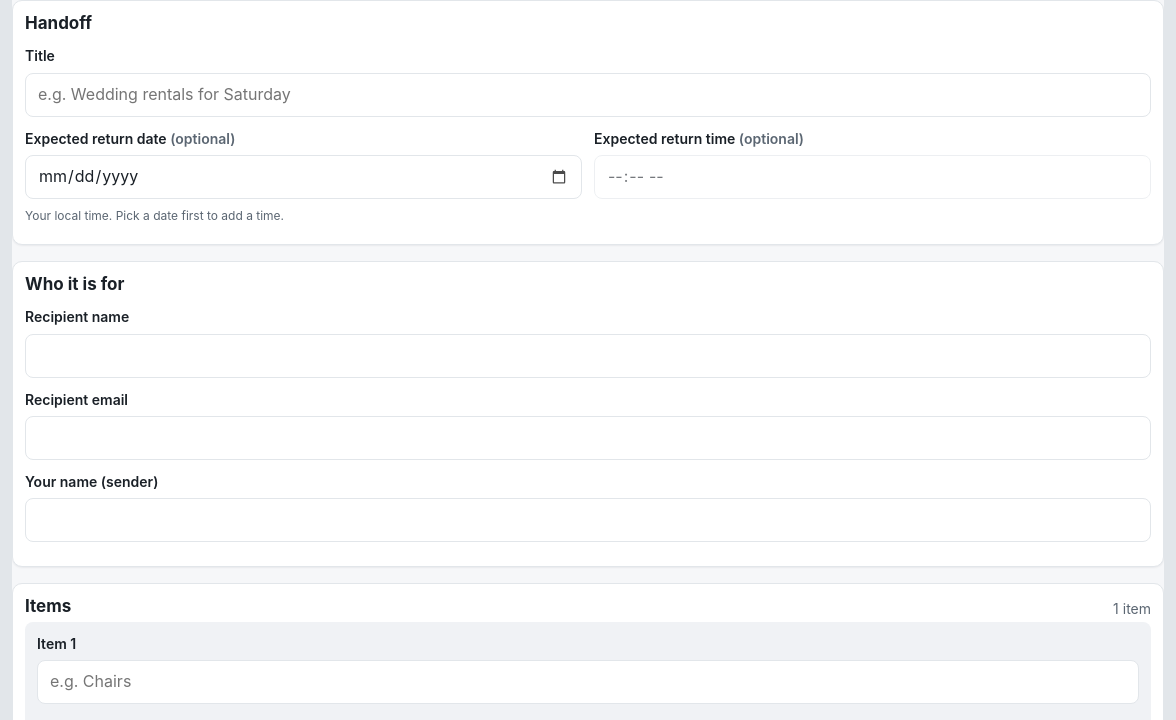
it: HandoffForm expected return › refuses an item without a quantity above zero, without sending anything
Type "Spare laptops" into the field labelled "Title".
click(588, 94); type("Spare laptops")  # box x1=25 y1=72 x2=1151 y2=116
Type "Dev Patel" into the field labelled "Recipient name".
click(588, 356); type("Dev Patel")  # box x1=25 y1=334 x2=1151 y2=378
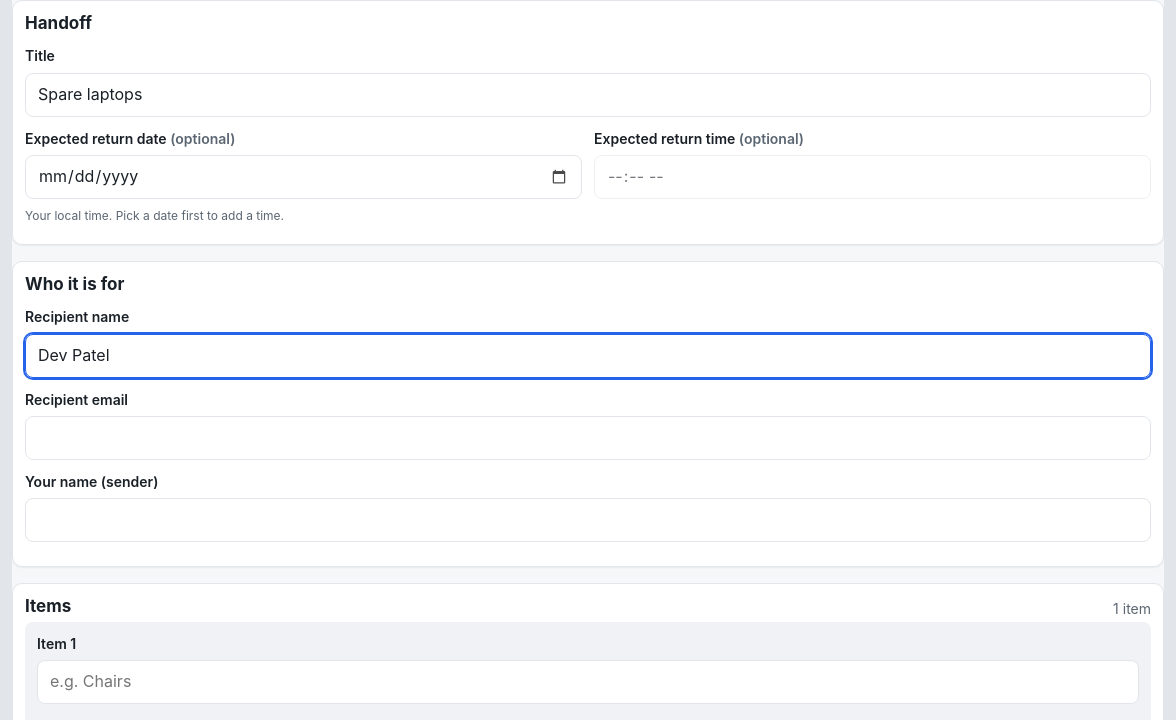
Type "dev@example.test" into the field labelled "Recipient email".
click(588, 438); type("dev@example.test")  # box x1=25 y1=416 x2=1151 y2=460
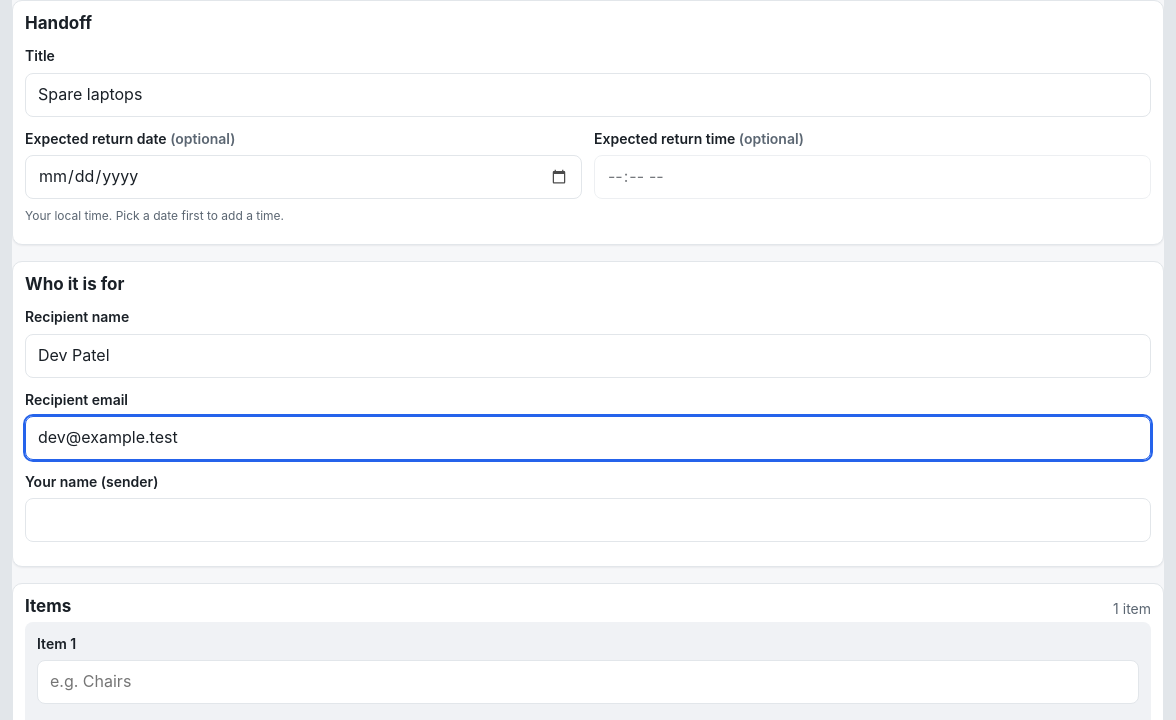
Type "Sender" into the field labelled "Your name (sender)".
click(588, 520); type("Sender")  # box x1=25 y1=498 x2=1151 y2=542
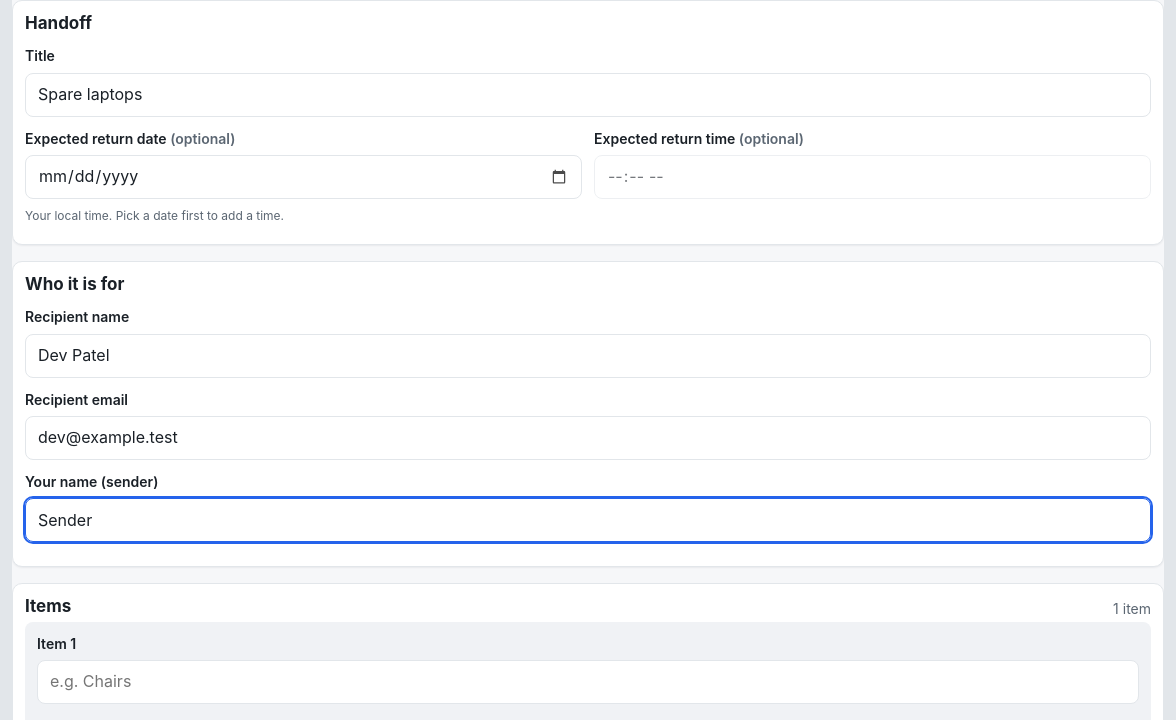
Type "Laptop" into the field labelled "Item 1".
click(588, 682); type("Laptop")  # box x1=37 y1=660 x2=1139 y2=704
(page scrolled)
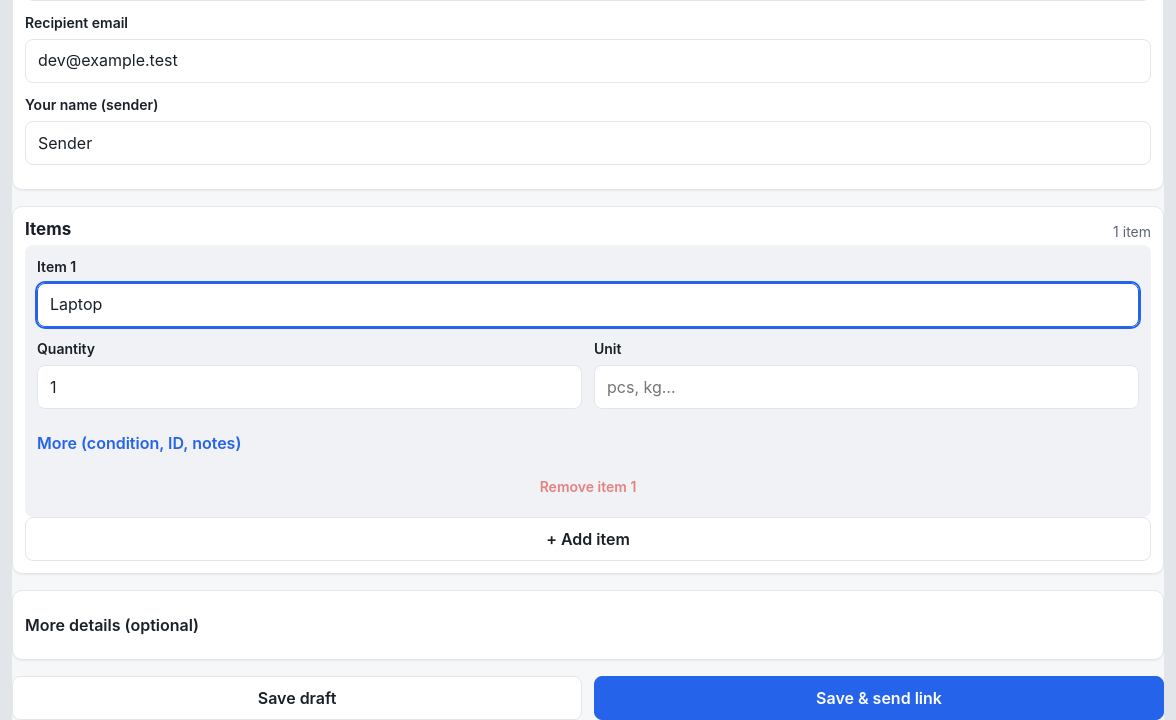
Replace the text in the number field labelled "Quantity" with "0" at (310, 387), box x1=37 y1=365 x2=582 y2=409
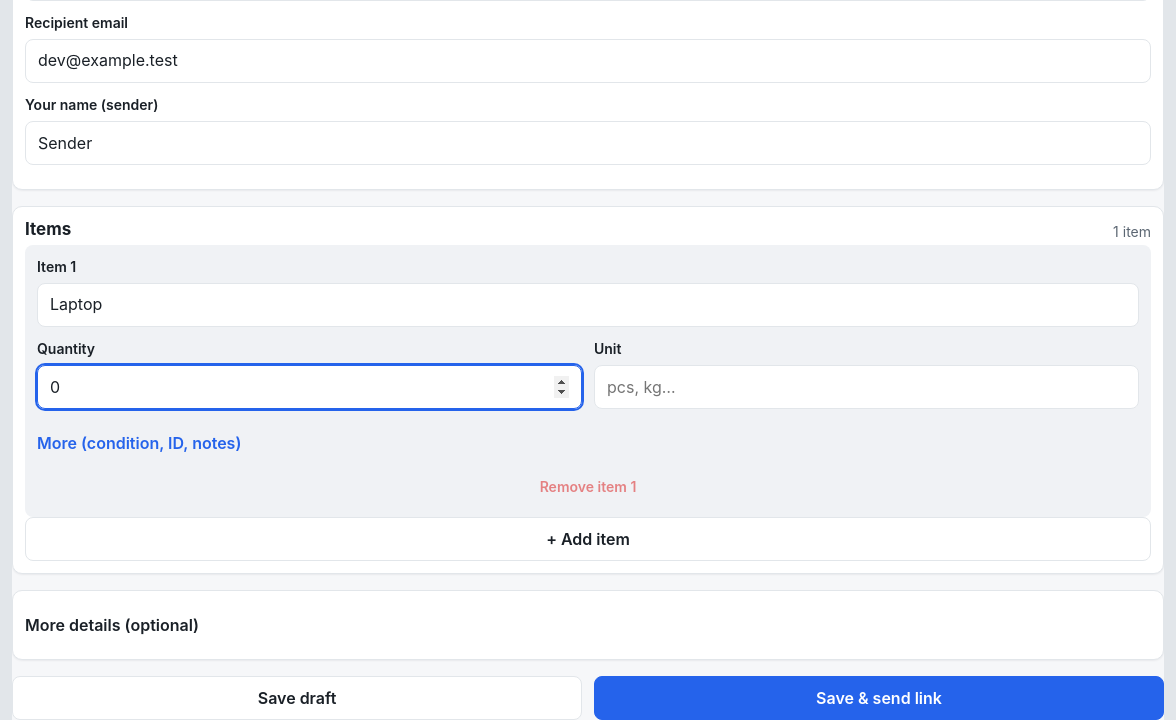
Click the button "Save draft".
click(297, 698)  # box x1=12 y1=676 x2=582 y2=719
(page scrolled)
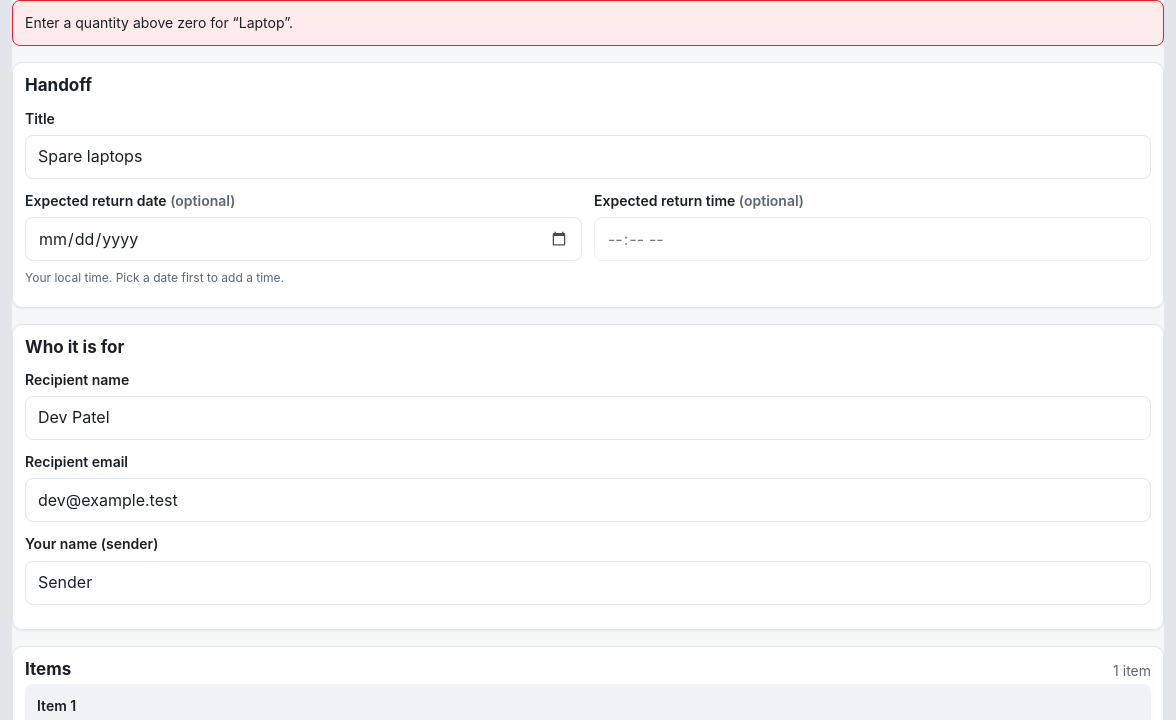
Check: the message shows "quantity above zero", box x1=25 y1=14 x2=293 y2=31
